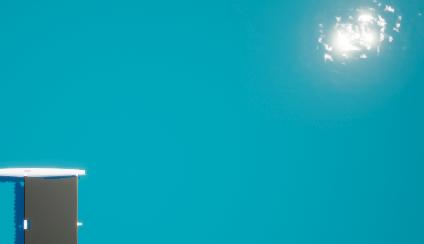boat: (0, 163, 91, 244)
drone: (25, 176, 76, 244)
land_base: (287, 0, 424, 87)
